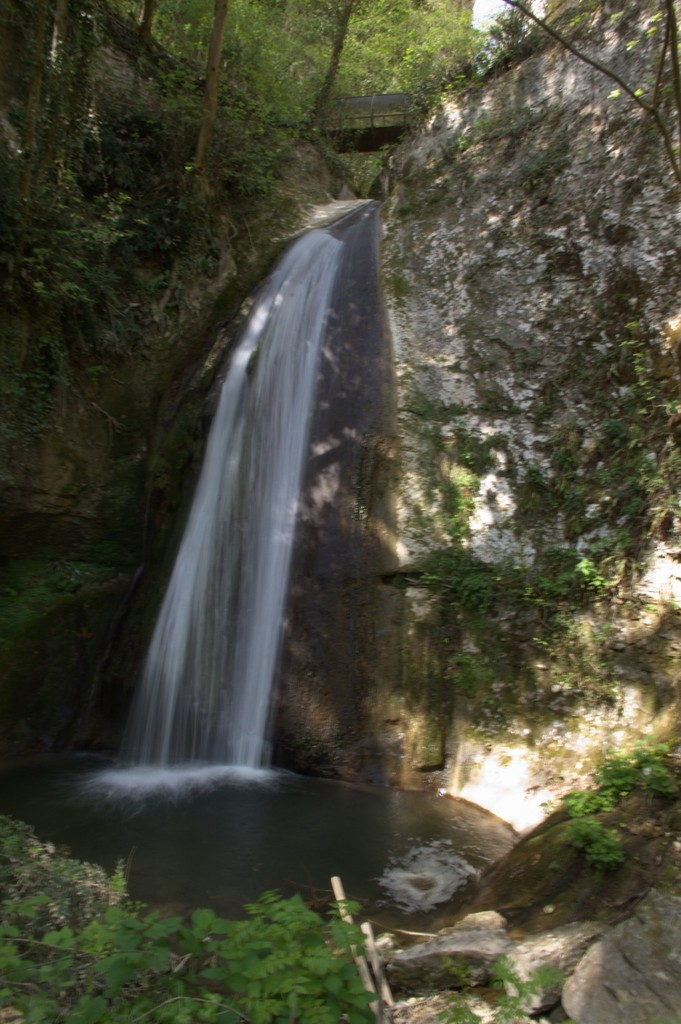Tree: (0, 0, 474, 420)
